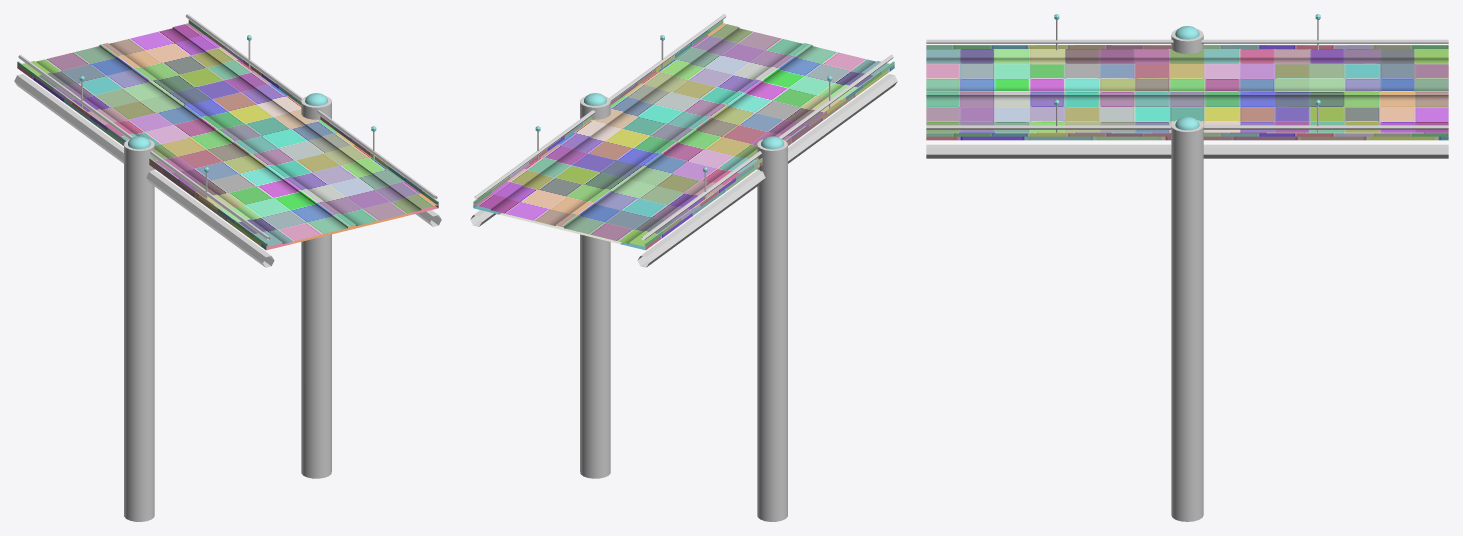
Rendered from road_01_bridge.fbx.
3 renders of one model, left to right at view 1: azimuth 30°, elevation 25°; view 2: azimuth 150°, elevation 25°; view 3: azimuth 270°, elevation 25°, orthographic. The views are drawn at different scales.
Parts seen in each view (by area): view 1: road_01, Hashira_1 (×2), Hashira_2, Hashira_3 (×2); view 2: road_01, Hashira_1 (×2), Hashira_2, Hashira_3 (×2); view 3: road_01, Hashira_1, Hashira_2, Hashira_3 (×2).
Part boxes in pixels (x1=…): road_01: x1=17, y1=20, x2=438, y2=250; Hashira_1 (×2): x1=124, y1=96, x2=331, y2=521; Hashira_2: x1=14, y1=74, x2=274, y2=267; Hashira_3 (×2): x1=18, y1=14, x2=437, y2=240; road_01: x1=473, y1=20, x2=894, y2=250; Hashira_1 (×2): x1=580, y1=96, x2=787, y2=521; Hashira_2: x1=637, y1=74, x2=897, y2=267; Hashira_3 (×2): x1=474, y1=14, x2=893, y2=240; road_01: x1=926, y1=45, x2=1448, y2=140; Hashira_1: x1=1171, y1=120, x2=1203, y2=521; Hashira_2: x1=926, y1=144, x2=1448, y2=158; Hashira_3 (×2): x1=926, y1=39, x2=1448, y2=129.
Size of the model in its own units: 1160 by 2133 by 2450.
